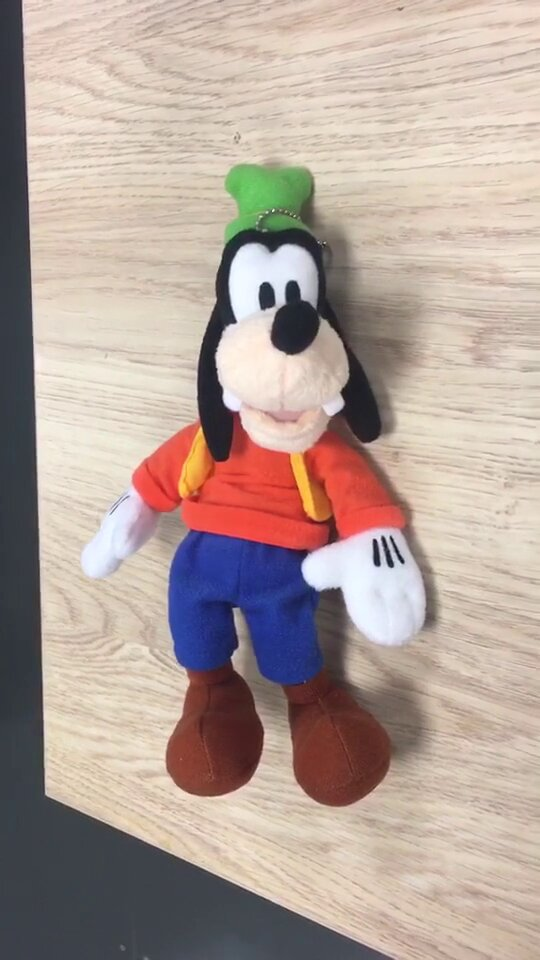goofy: (78, 159, 432, 813)
